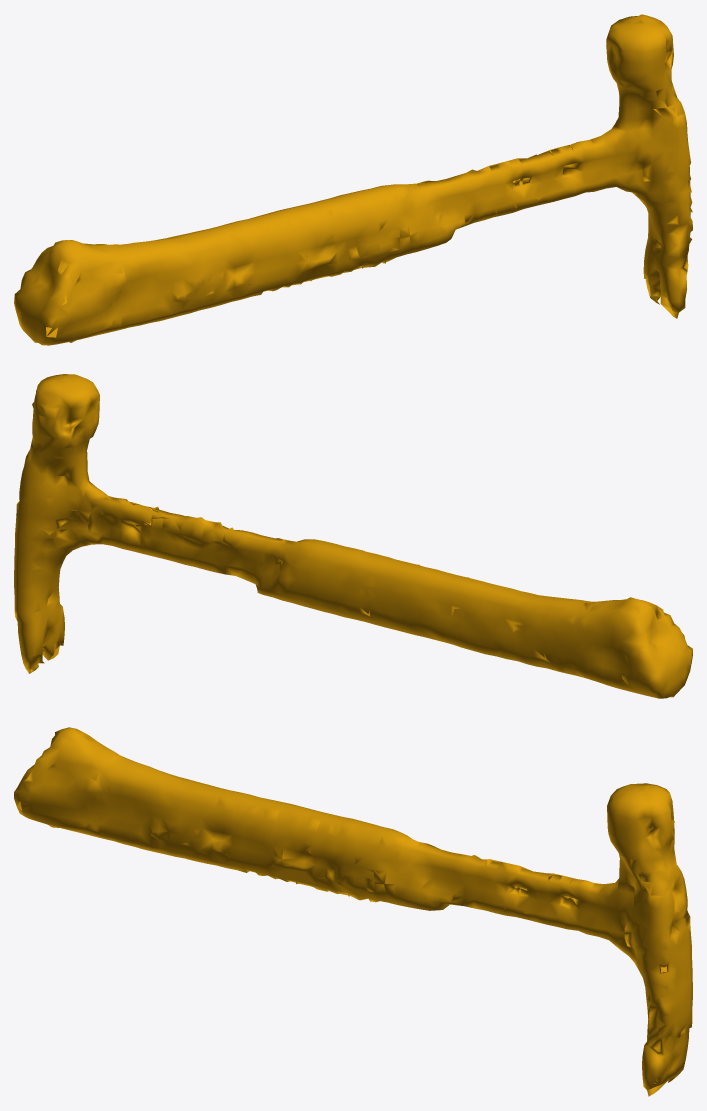
File: model_origin.obj
3 renders of one model, top to bottom at view 1: azimuth 30°, elevation 25°; view 2: azimuth 150°, elevation 25°; view 3: azimuth 330°, elevation 25°, orthographic.
Bounding box in the file's own units: 1 × 0.4288 × 0.1025.
